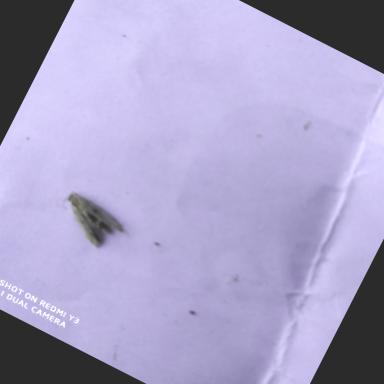pbw: (44, 184, 133, 260)
